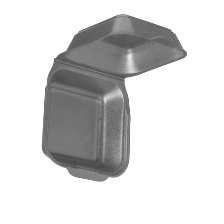foam_box: (35, 10, 190, 187)
